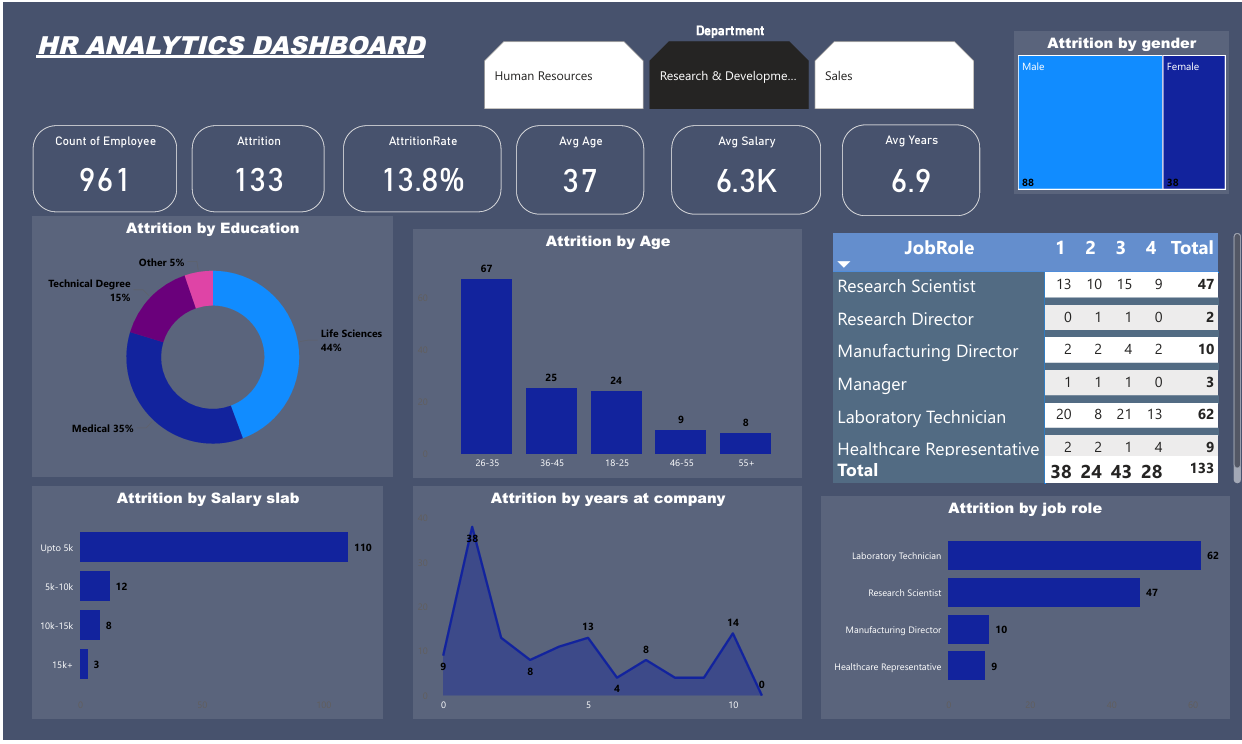

Layout of this report page (visuals, bound fields, positions):
{"tool":"powerbi","page":{"name":"Page 1","canvas":[1600,950],"ordinal":0},"visuals":[{"type":"card","title":"AttritionRate","fields":{"Values":["HR_Analytics.AttritionRate"]},"box":[437.6,158.1,204.4,111.8],"z":0},{"type":"card","title":"Count of Employee","fields":{"Values":["CountNonNull(HR_Analytics.EmpID)"]},"box":[38.3,158.1,185.3,111.8],"z":1000},{"type":"card","title":"Attrition","fields":{"Values":["Sum(HR_Analytics.Attritioncount)"]},"box":[234.8,158.1,178.9,111.8],"z":2000},{"type":"card","title":"Avg Age","fields":{"Values":["Avg(HR_Analytics.Age)"]},"box":[661.2,158.1,164.5,115],"z":3000},{"type":"card","title":"Avg Salary","fields":{"Values":["Avg(HR_Analytics.MonthlyIncome)"]},"box":[860.9,158.1,193.3,115],"z":4000},{"type":"card","title":"Avg Years","fields":{"Values":["Avg(HR_Analytics.YearsAtCompany)"]},"box":[1081.3,156.5,177.3,118.2],"z":5000},{"type":"donutChart","title":"Attrition by Education","fields":{"Category":["HR_Analytics.EducationField"],"Y":["Sum(HR_Analytics.Attritioncount)"]},"box":[38.3,276.3,463.2,335.4],"z":6000},{"type":"columnChart","title":"Attrition by Age","fields":{"Category":["HR_Analytics.AgeGroup"],"Y":["Sum(HR_Analytics.Attritioncount)"]},"box":[528.7,292.3,501.5,319.4],"z":7000},{"type":"barChart","title":"Attrition by Salary slab","fields":{"Category":["HR_Analytics.SalarySlab"],"Y":["Sum(HR_Analytics.Attritioncount)"]},"box":[38.3,624.5,452,298.7],"z":8000},{"type":"barChart","title":"Attrition by job role","fields":{"Category":["HR_Analytics.JobRole"],"Y":["Sum(HR_Analytics.Attritioncount)"]},"box":[1054.1,635.7,525.5,287.5],"z":9000},{"type":"areaChart","title":"Attrition by years at company","fields":{"Category":["HR_Analytics.YearsAtCompany"],"Y":["Sum(HR_Analytics.Attritioncount)"]},"box":[528.7,624.5,501.5,298.7],"z":10000},{"type":"treemap","title":"Attrition by gender","fields":{"Group":["HR_Analytics.Gender"],"Values":["Sum(HR_Analytics.Attritioncount)"]},"box":[1303.3,36.7,276.3,209.2],"z":11000},{"type":"pivotTable","fields":{"Rows":["HR_Analytics.JobRole"],"Columns":["HR_Analytics.JobSatisfaction"],"Values":["Sum(HR_Analytics.Attritioncount)"]},"box":[1065.3,292.3,535.1,332.2],"z":12000},{"type":"advancedSlicerVisual","fields":{"Values":["HR_Analytics.Department"]},"box":[614.9,25.6,643.7,116.6],"z":13000},{"type":"textbox","box":[38.3,25.6,622.9,81.5],"z":14000}]}

Visuals, with their boxes in screenshot pixels (x1, y1, x2, y2), scaled from the page's 1600x950 canvas onto the 1242x744 screenshot:
"AttritionRate" card: <box>340,124,498,211</box>
"Count of Employee" card: <box>30,124,174,211</box>
"Attrition" card: <box>182,124,321,211</box>
"Avg Age" card: <box>513,124,641,214</box>
"Avg Salary" card: <box>668,124,818,214</box>
"Avg Years" card: <box>839,123,977,215</box>
"Attrition by Education" donutChart: <box>30,216,389,479</box>
"Attrition by Age" columnChart: <box>410,229,800,479</box>
"Attrition by Salary slab" barChart: <box>30,489,381,723</box>
"Attrition by job role" barChart: <box>818,498,1226,723</box>
"Attrition by years at company" areaChart: <box>410,489,800,723</box>
"Attrition by gender" treemap: <box>1012,29,1226,193</box>
pivotTable - HR_Analytics.JobRole x HR_Analytics.JobSatisfaction: <box>827,229,1241,489</box>
advancedSlicerVisual - HR_Analytics.Department: <box>477,20,977,111</box>
textbox: <box>30,20,513,84</box>
